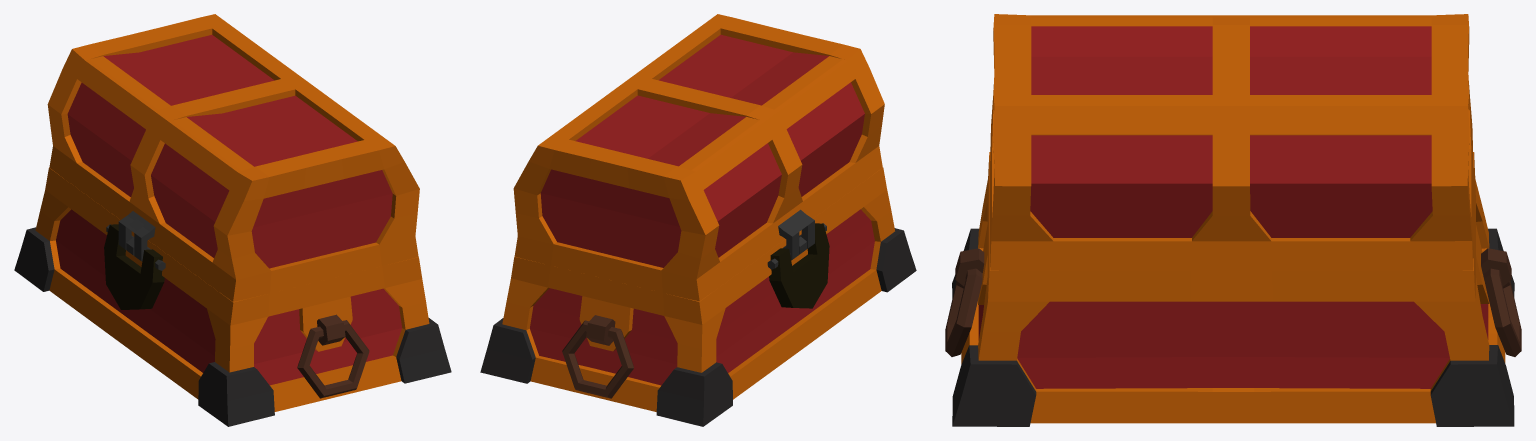
Rendered from chest.FBX.
3 views of the same model, side by side, from view 1: azimuth 30°, elevation 25°; view 2: azimuth 150°, elevation 25°; view 3: azimuth 270°, elevation 25° (orthographic). The views are drawn at different scales.
Visible parts, largest first — view 1: Object, Tresurebox, Cylinder002, RING, Tube002; view 2: Object, Tresurebox, Cylinder002, RING001, Tube002; view 3: Object, Tresurebox, RING001, RING.
Boxes of the visible parts, left/top/right/bottom form: Object: left=47, top=14, right=419, bottom=301; Tresurebox: left=14, top=167, right=451, bottom=426; Cylinder002: left=104, top=224, right=164, bottom=309; RING: left=297, top=314, right=369, bottom=398; Tube002: left=118, top=211, right=155, bottom=261; Object: left=513, top=14, right=884, bottom=301; Tresurebox: left=480, top=167, right=916, bottom=426; Cylinder002: left=769, top=223, right=829, bottom=308; RING001: left=562, top=315, right=633, bottom=398; Tube002: left=778, top=209, right=814, bottom=260; Object: left=990, top=14, right=1473, bottom=270; Tresurebox: left=952, top=152, right=1514, bottom=426; RING001: left=1481, top=248, right=1521, bottom=356; RING: left=945, top=248, right=984, bottom=356.
Size of the model in its own units: 37.56 by 35.84 by 63.25.
